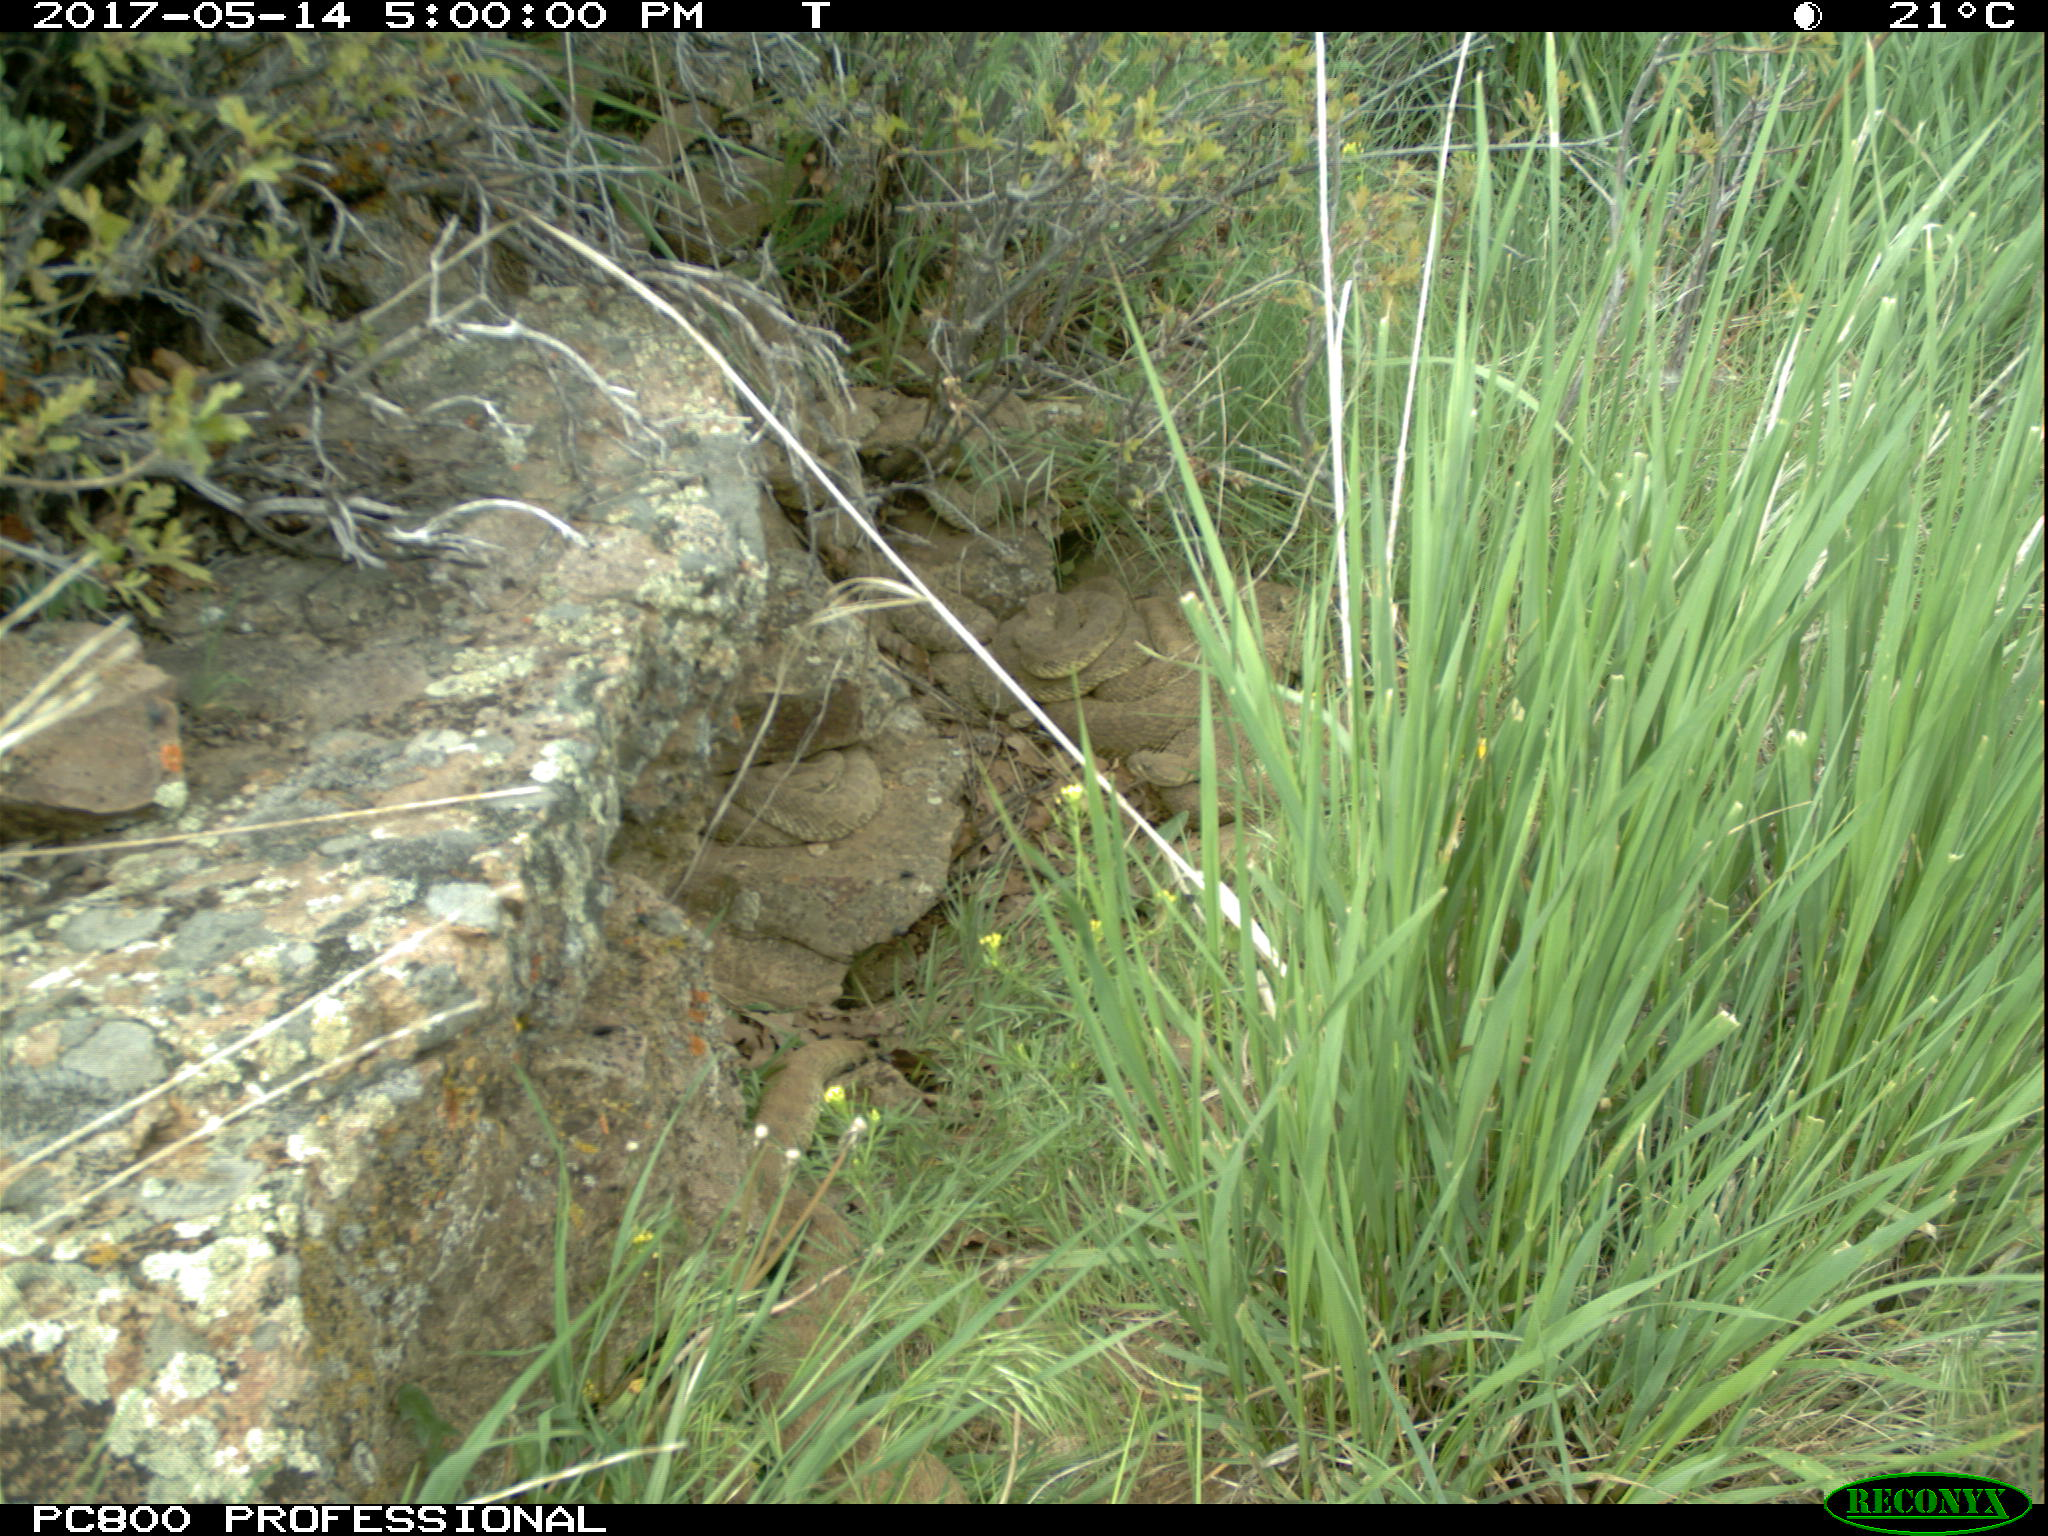snake: (743, 1029, 871, 1455), (1097, 699, 1322, 821), (1138, 563, 1314, 718), (972, 571, 1151, 705), (701, 745, 884, 849), (877, 578, 1005, 670), (918, 452, 1014, 537), (637, 97, 726, 171)
